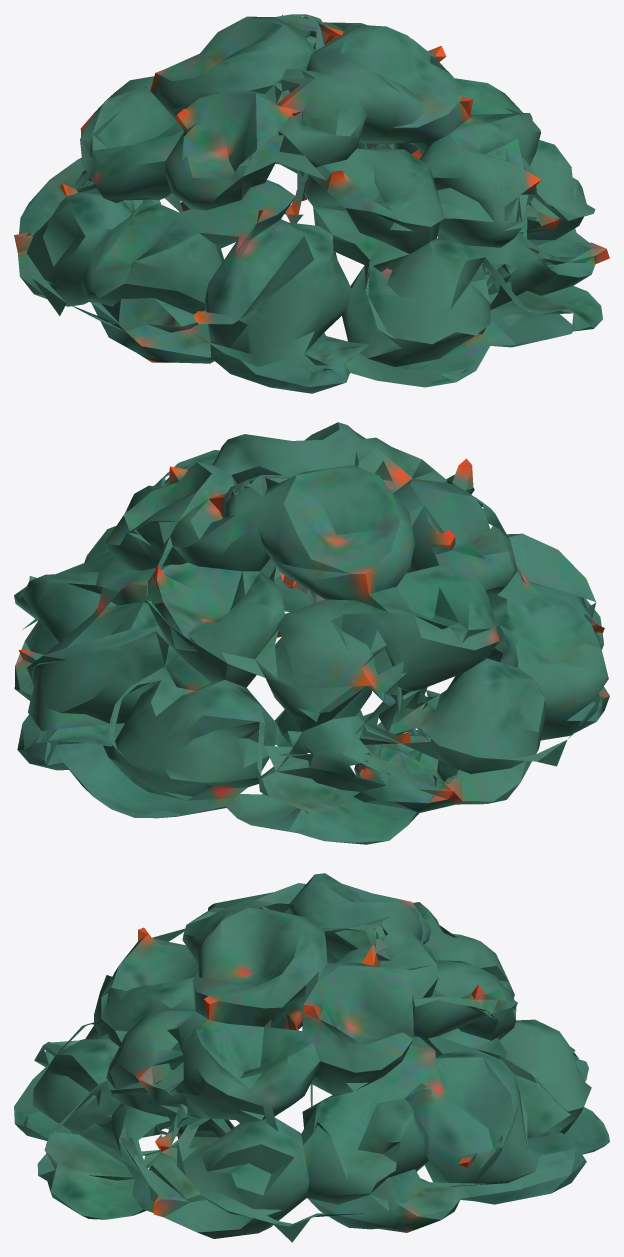
The model's file is nets.glb.
The picture shows the model from 3 angles, top to bottom: view 1: azimuth 30°, elevation 25°; view 2: azimuth 150°, elevation 25°; view 3: azimuth 270°, elevation 25°; orthographic projection. The views are drawn at different scales.
Parts seen in each view (by area): view 1: nets; view 2: nets; view 3: nets.
Boxes of the visible parts, x1=… form: nets: x1=14, y1=14, x2=609, y2=393; nets: x1=14, y1=422, x2=609, y2=844; nets: x1=14, y1=873, x2=609, y2=1242.
Size of the model in its own units: 1.71 by 0.8 by 1.84.
1 material, 1 textured.
